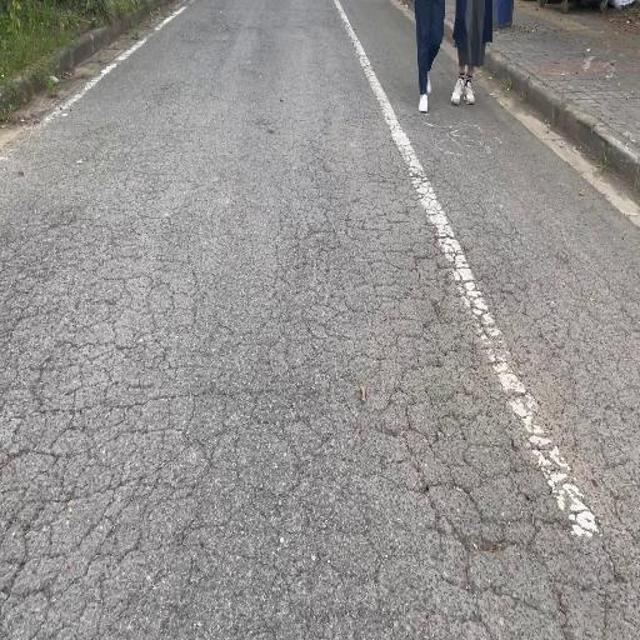Retak Buaya: (323, 197, 602, 640)
